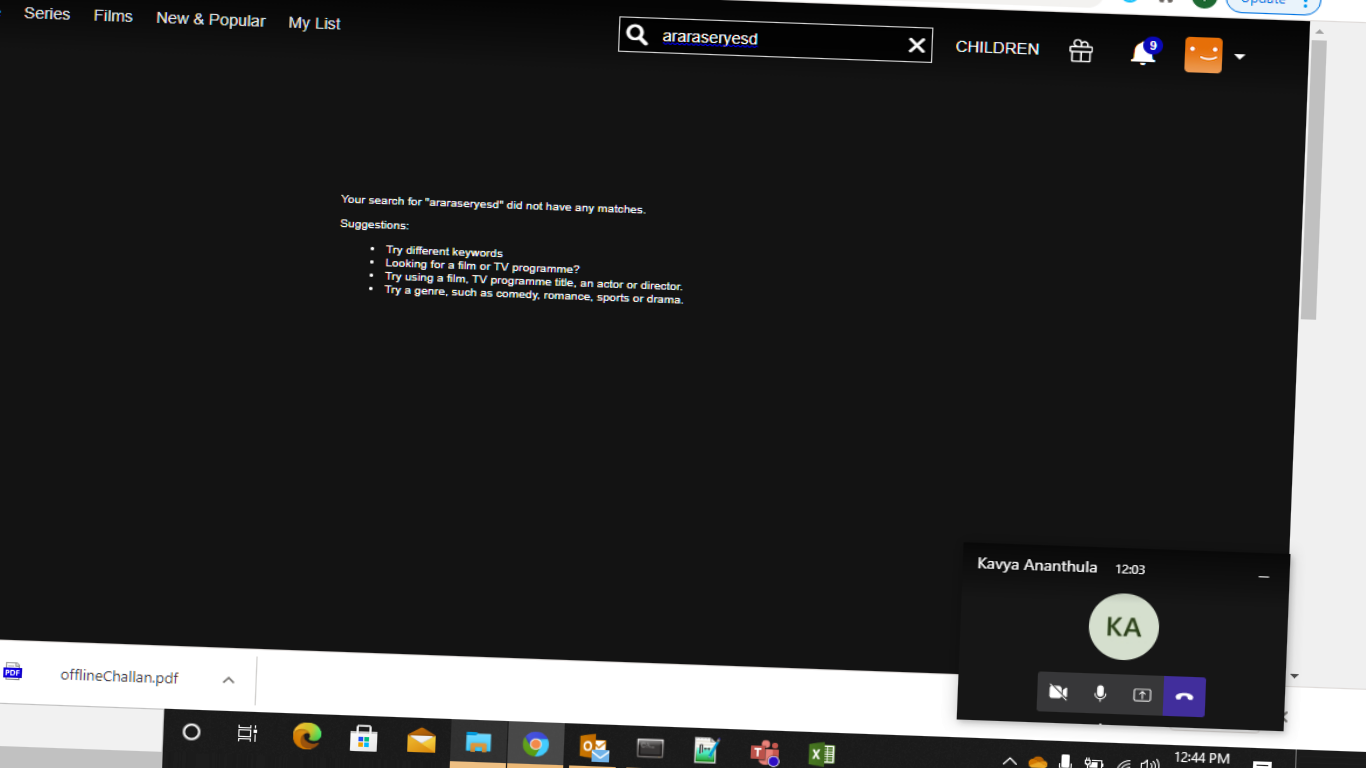mywatchlistbutton: (285, 4, 357, 44)
noresultsfound: (329, 156, 694, 344)
profileicon: (1171, 30, 1257, 86)
searchicon: (625, 14, 656, 48)
searchtextbox: (622, 8, 934, 70)
